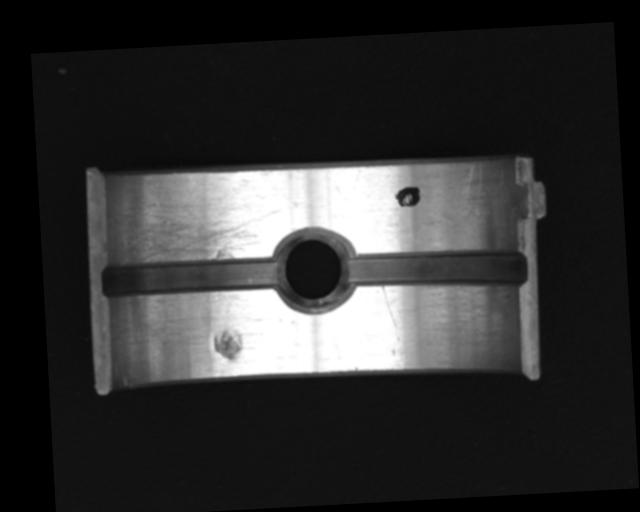blot: (394, 185, 421, 208)
bruise: (212, 327, 243, 361)
gap: (341, 245, 529, 297), (100, 254, 283, 300)
hole: (270, 227, 354, 316)
nick: (382, 284, 400, 343)
scratch: (106, 193, 284, 266)
